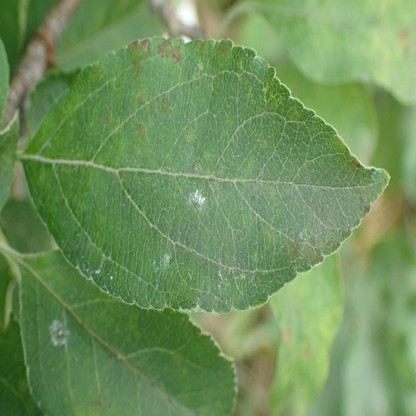powdery_mildew: (217, 168, 389, 284), (189, 189, 206, 208), (155, 254, 171, 274)
scab: (130, 39, 150, 75), (77, 394, 109, 416), (157, 38, 172, 59), (308, 249, 323, 264), (288, 244, 301, 260), (94, 62, 105, 80), (137, 123, 146, 143), (172, 46, 181, 65), (160, 99, 171, 114), (219, 41, 229, 57), (103, 112, 113, 127), (148, 99, 155, 118), (136, 93, 144, 109), (328, 239, 339, 249), (199, 39, 206, 51), (192, 78, 200, 88), (352, 158, 360, 168), (362, 204, 370, 212), (308, 237, 315, 246)
